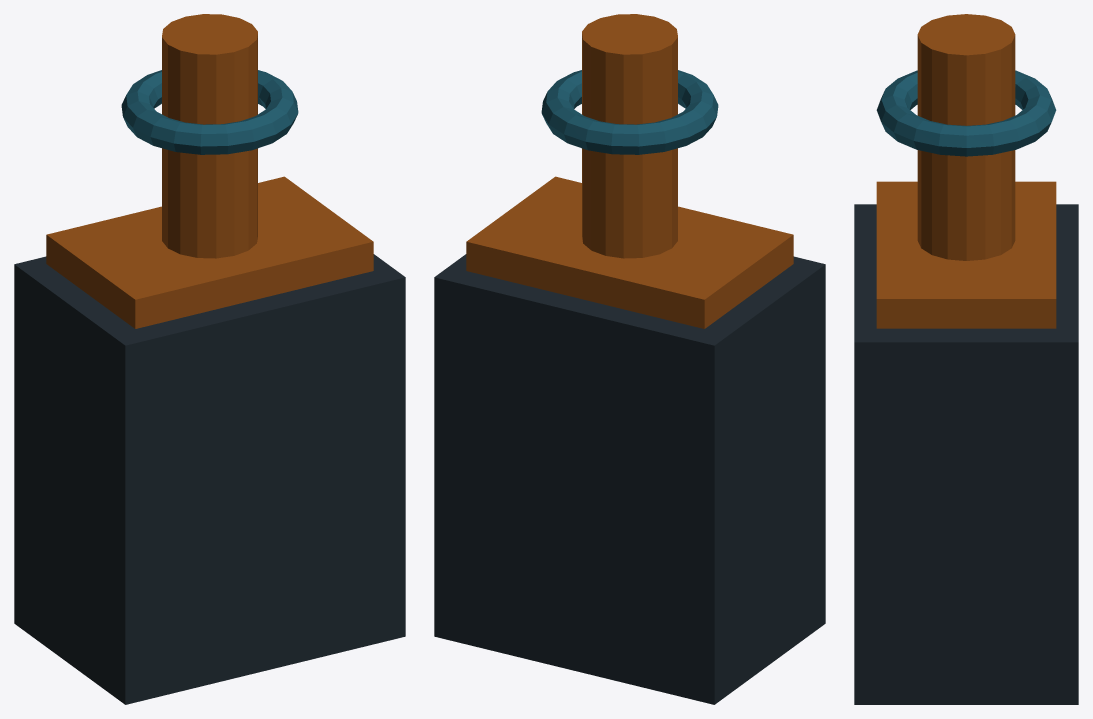
File: display_cabinet.obj
3 renders of one model, left to right at view 1: azimuth 30°, elevation 25°; view 2: azimuth 150°, elevation 25°; view 3: azimuth 270°, elevation 25°, orthographic.
Parts seen in each view (by area): view 1: painted_metal, brass, glass; view 2: painted_metal, brass, glass; view 3: painted_metal, brass, glass.
Boxes of the visible parts, box(x1,y1,x2,y2) form: painted_metal: box(14, 254, 405, 704); brass: box(46, 14, 373, 328); glass: box(121, 70, 298, 154); painted_metal: box(434, 254, 825, 704); brass: box(466, 14, 793, 328); glass: box(541, 70, 718, 154); painted_metal: box(854, 204, 1078, 704); brass: box(876, 14, 1056, 328); glass: box(876, 70, 1056, 156).
Bounding box in the file's own units: 0.8 × 1.62 × 0.55.
